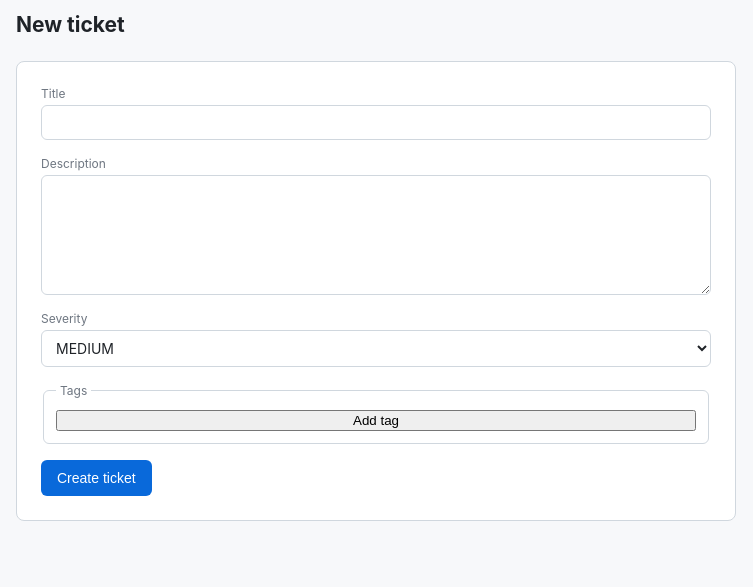
Test case: NewTicketPage › surfaces the server error message and leaves the form interactive
Type "API is down" into the field labelled "Title".
click(376, 122); type("API is down")  # box [41,105,711,140]
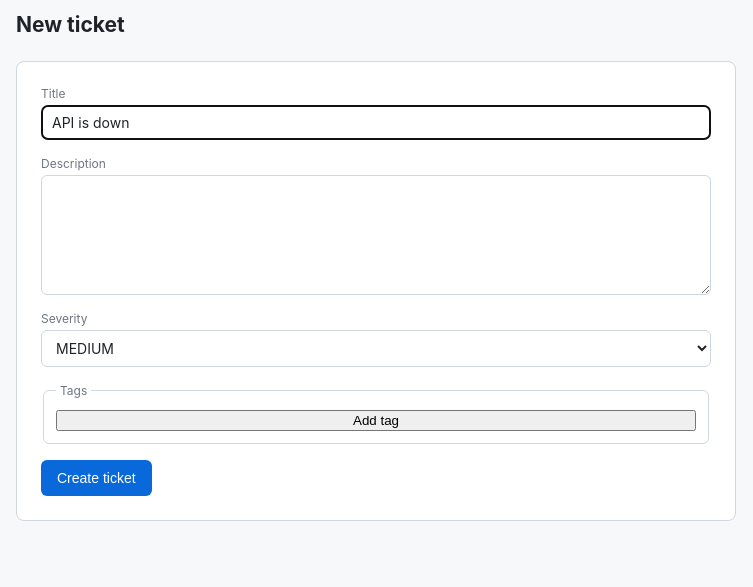
Type "All endpoints returning 500." into the text box labelled "Description".
click(376, 235); type("All endpoints returning 500.")  # box [41,175,711,295]
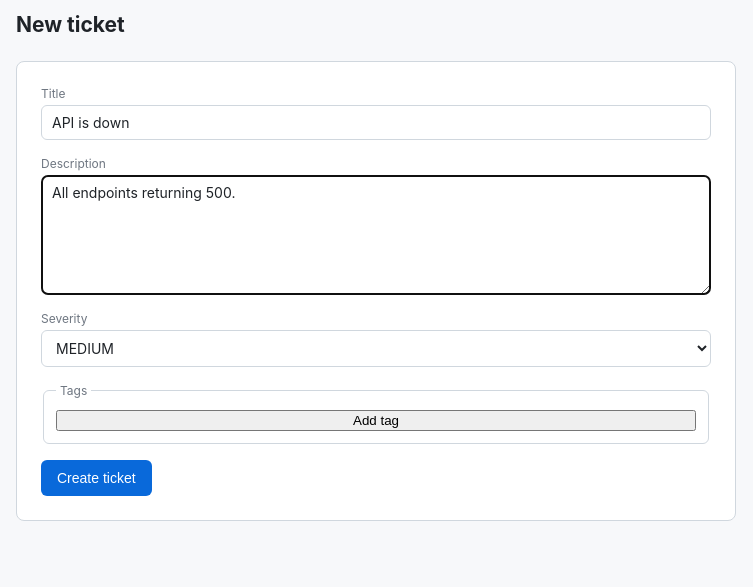
Click the button "Create ticket".
click(96, 478)  # box [41,460,152,496]
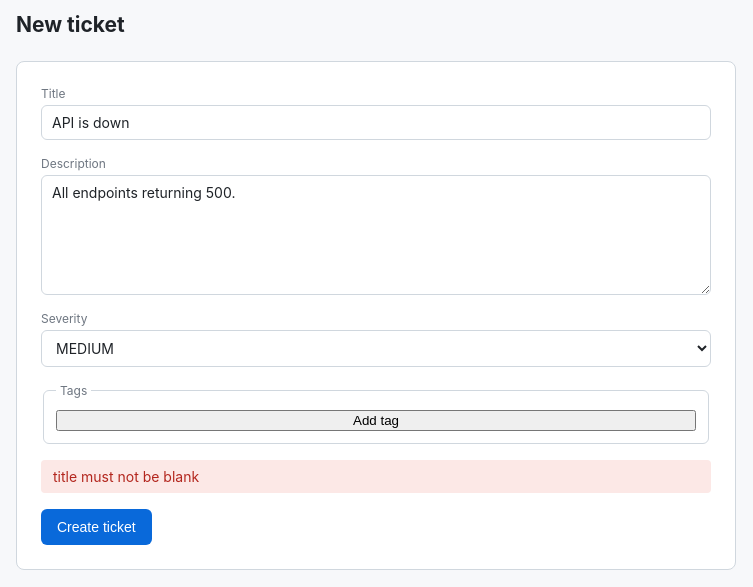
Expected: the button "Create ticket" is enabled, [41,509,152,545]
Expected: the message reads "title must not be blank", [53,468,199,485]
